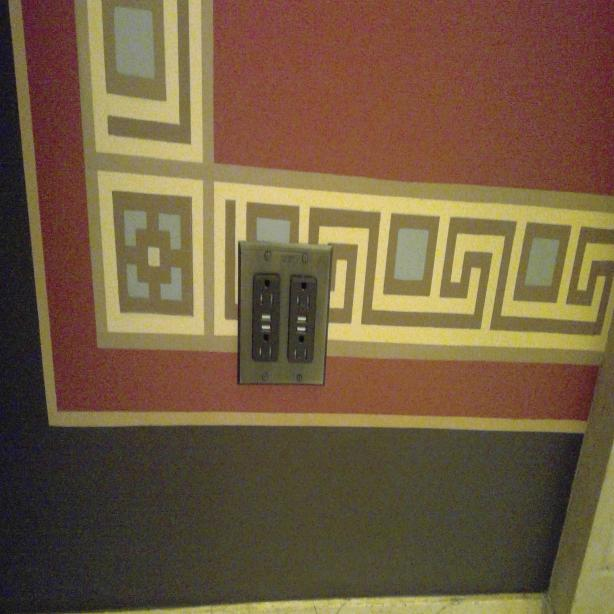typeb: (254, 272, 280, 313), (291, 276, 316, 316), (252, 330, 278, 363), (288, 329, 312, 362)
